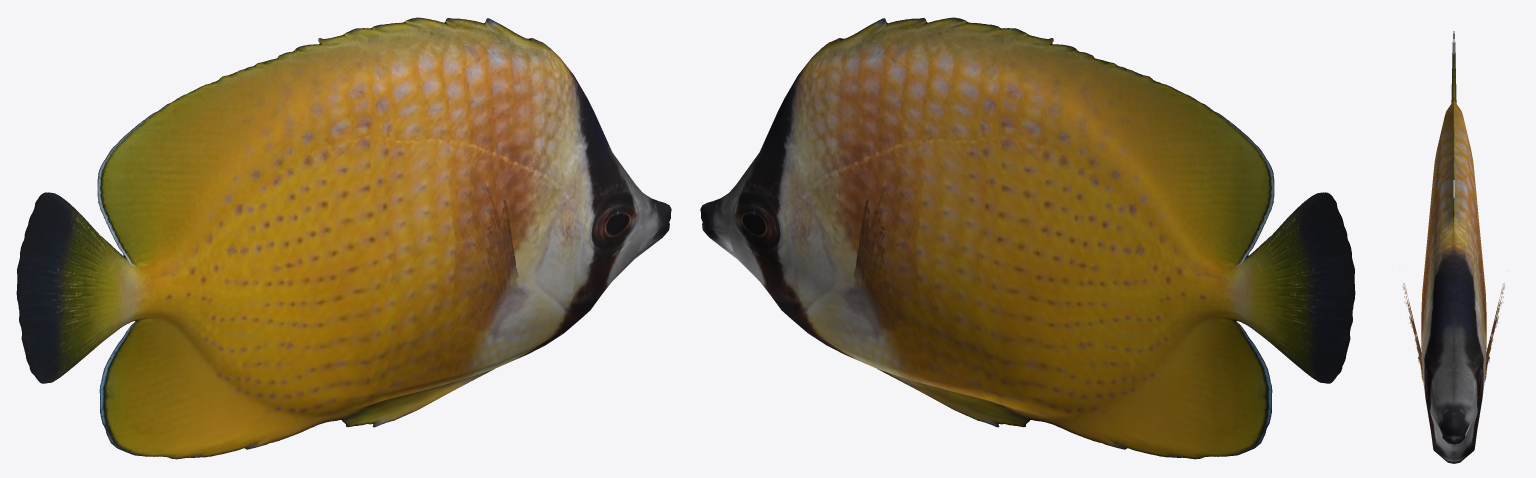
File: SK_ButterflyFish.fbx
The picture shows the model from 3 angles, left to right: view 1: azimuth 30°, elevation 25°; view 2: azimuth 150°, elevation 25°; view 3: azimuth 270°, elevation 25°; orthographic projection. The views are drawn at different scales.
Parts seen in each view (by area): view 1: SK_ButterflyFish; view 2: SK_ButterflyFish; view 3: SK_ButterflyFish.
Boxes of the visible parts, x1,y1,x2,y2 form: SK_ButterflyFish: [16, 17, 671, 459]; SK_ButterflyFish: [700, 17, 1355, 459]; SK_ButterflyFish: [1402, 31, 1505, 463].
Bounding box in the file's own units: 91.58 × 54.25 × 19.51.
